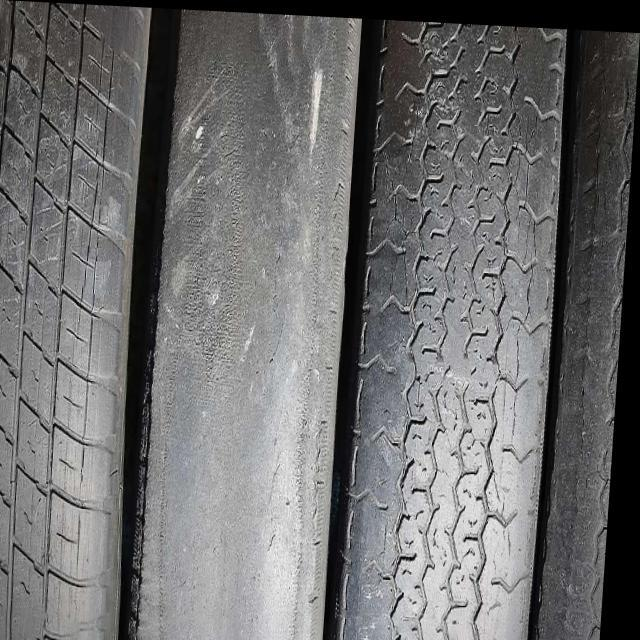Flat spots: (172, 31, 324, 639)
Non-defective: (393, 22, 515, 639), (0, 3, 93, 639)
